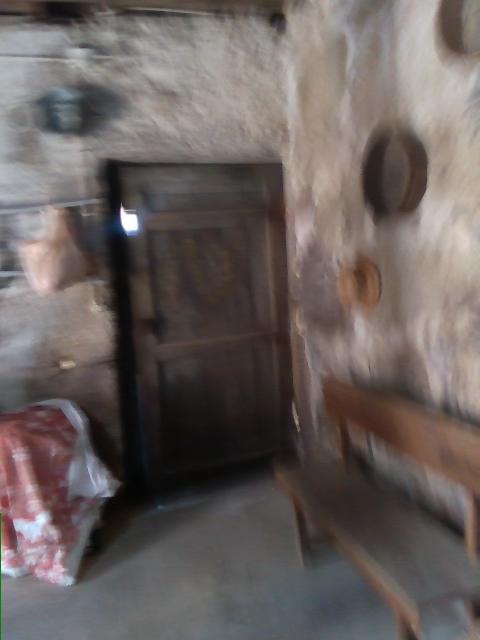door: (104, 161, 300, 513)
